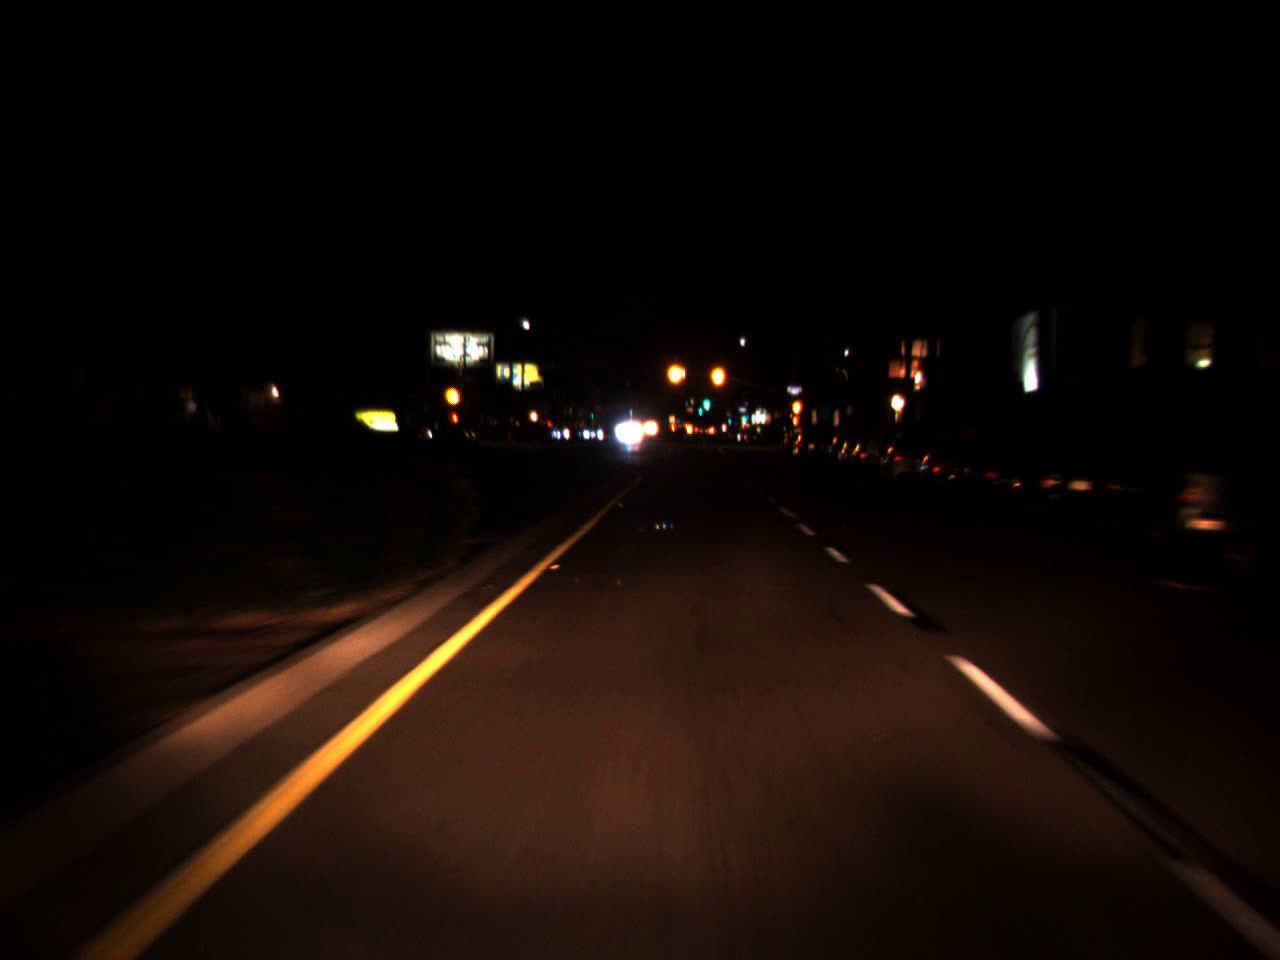go: (701, 387, 710, 414), (695, 398, 703, 416), (740, 408, 747, 423)
warning: (662, 348, 689, 398), (707, 353, 728, 398), (442, 376, 463, 411), (791, 392, 803, 422)
